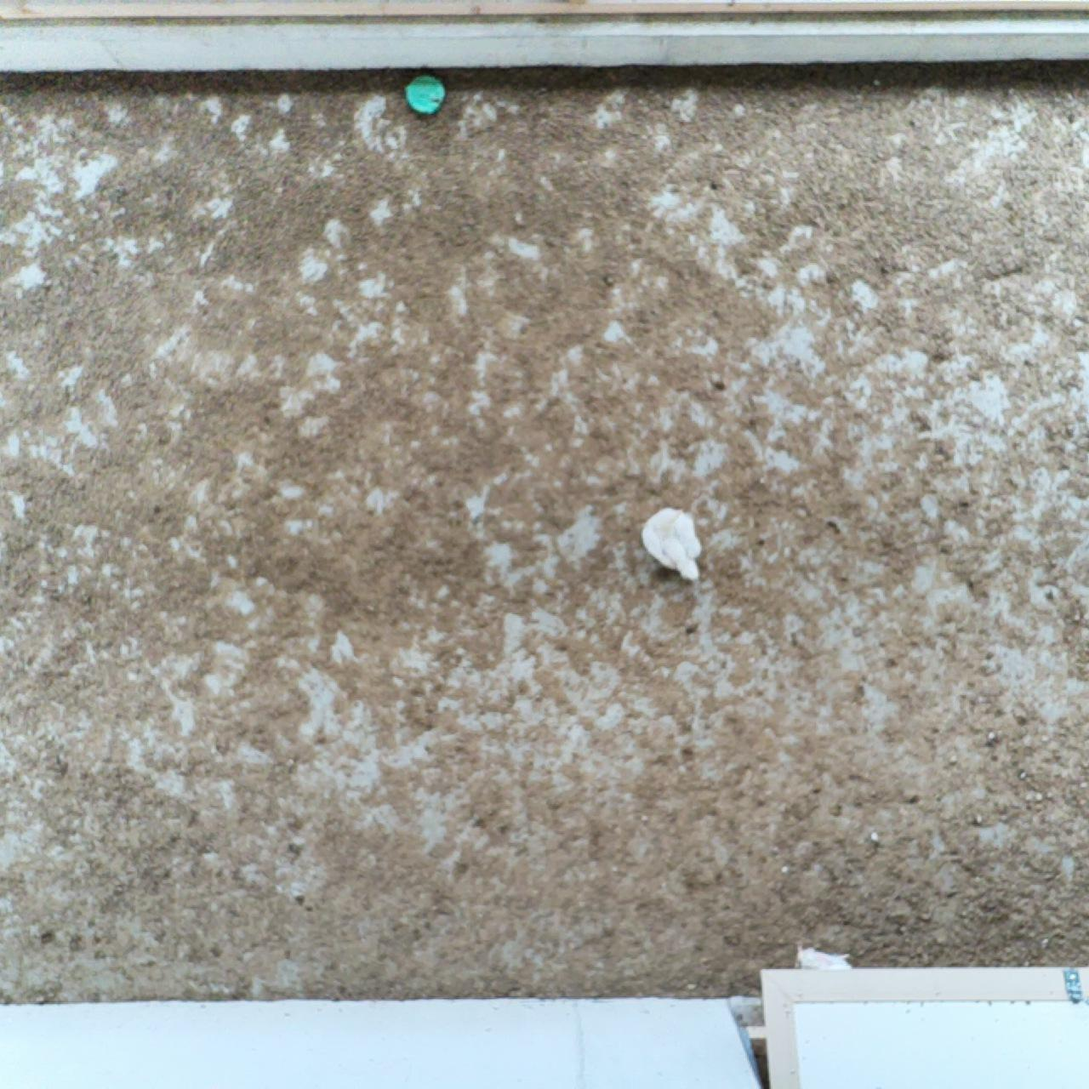chicken: (638, 500, 710, 586), (792, 939, 853, 977)
